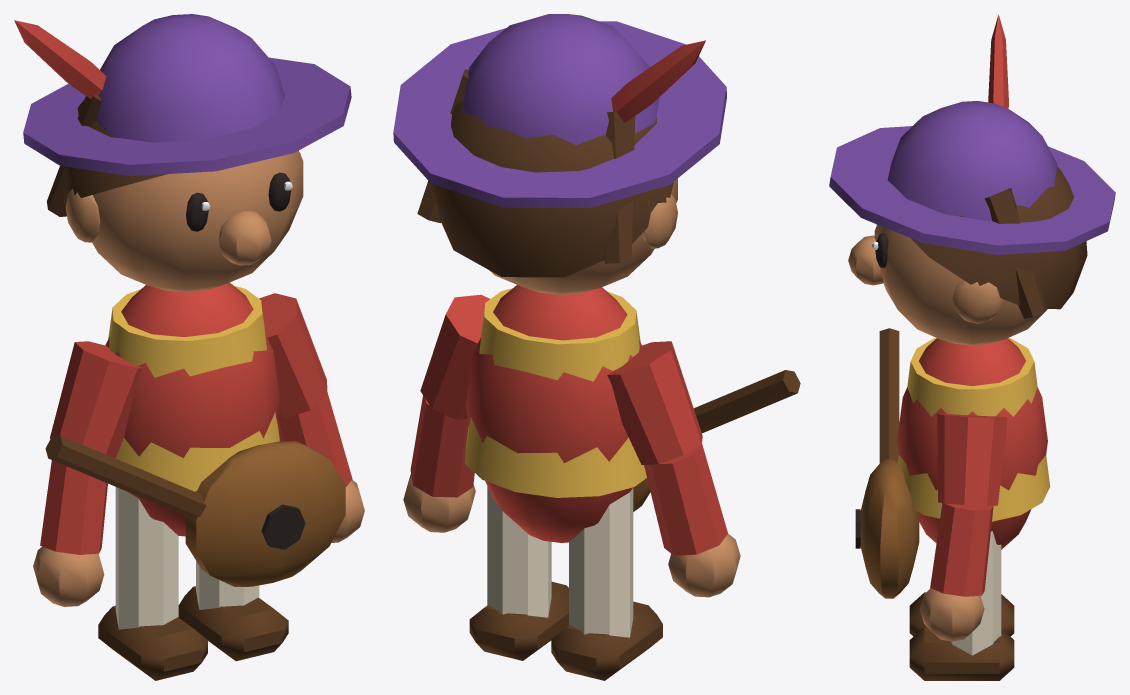
The model's file is CH_Staff_06_OzanSahne.fbx.
The picture shows the model from 3 angles, left to right: view 1: azimuth 30°, elevation 25°; view 2: azimuth 150°, elevation 25°; view 3: azimuth 270°, elevation 25°; orthographic projection. The views are drawn at different scales.
Parts seen in each view (by area): view 1: CH_Staff_06_OzanSahne; view 2: CH_Staff_06_OzanSahne; view 3: CH_Staff_06_OzanSahne.
Part boxes in pixels (x1,y1,x2,y2): CH_Staff_06_OzanSahne: [14, 14, 364, 680]; CH_Staff_06_OzanSahne: [393, 14, 800, 680]; CH_Staff_06_OzanSahne: [829, 14, 1115, 680].
Size of the model in its own units: 0.6764 by 1.21 by 0.5489.
Materials: 1 (1 with a texture image).
